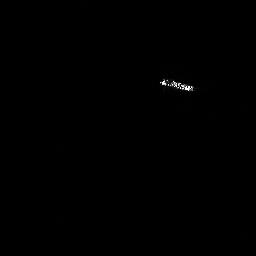ship: (157, 76, 194, 94)
